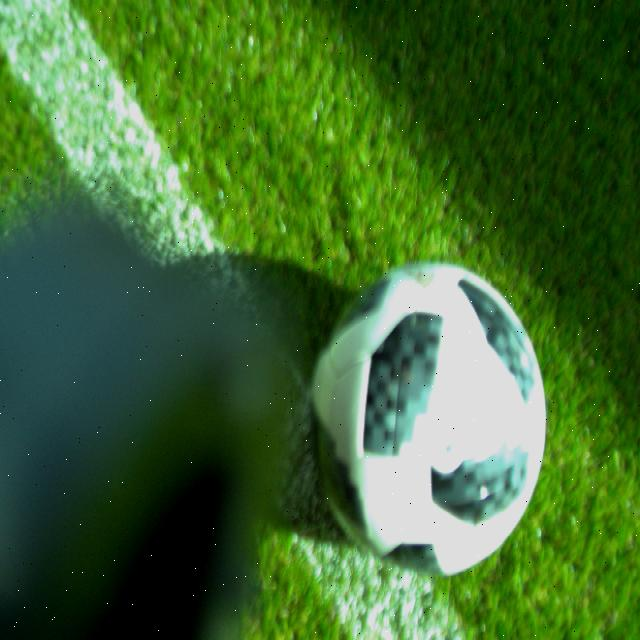ball: (309, 266, 550, 578)
